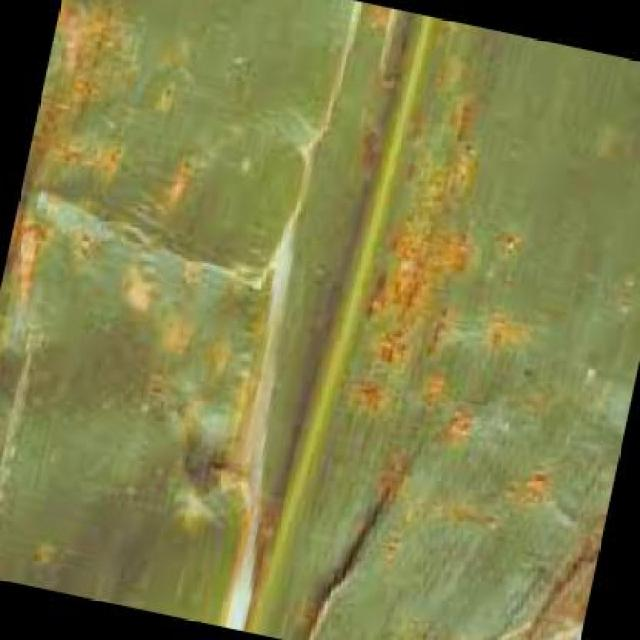Corn_Rust: (234, 89, 598, 561)
